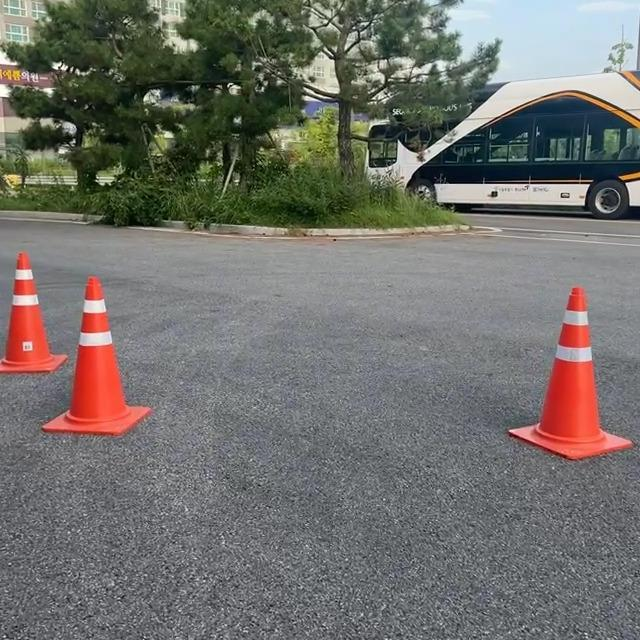fallen_object: (484, 247, 640, 554), (47, 256, 216, 500), (0, 185, 75, 387)
